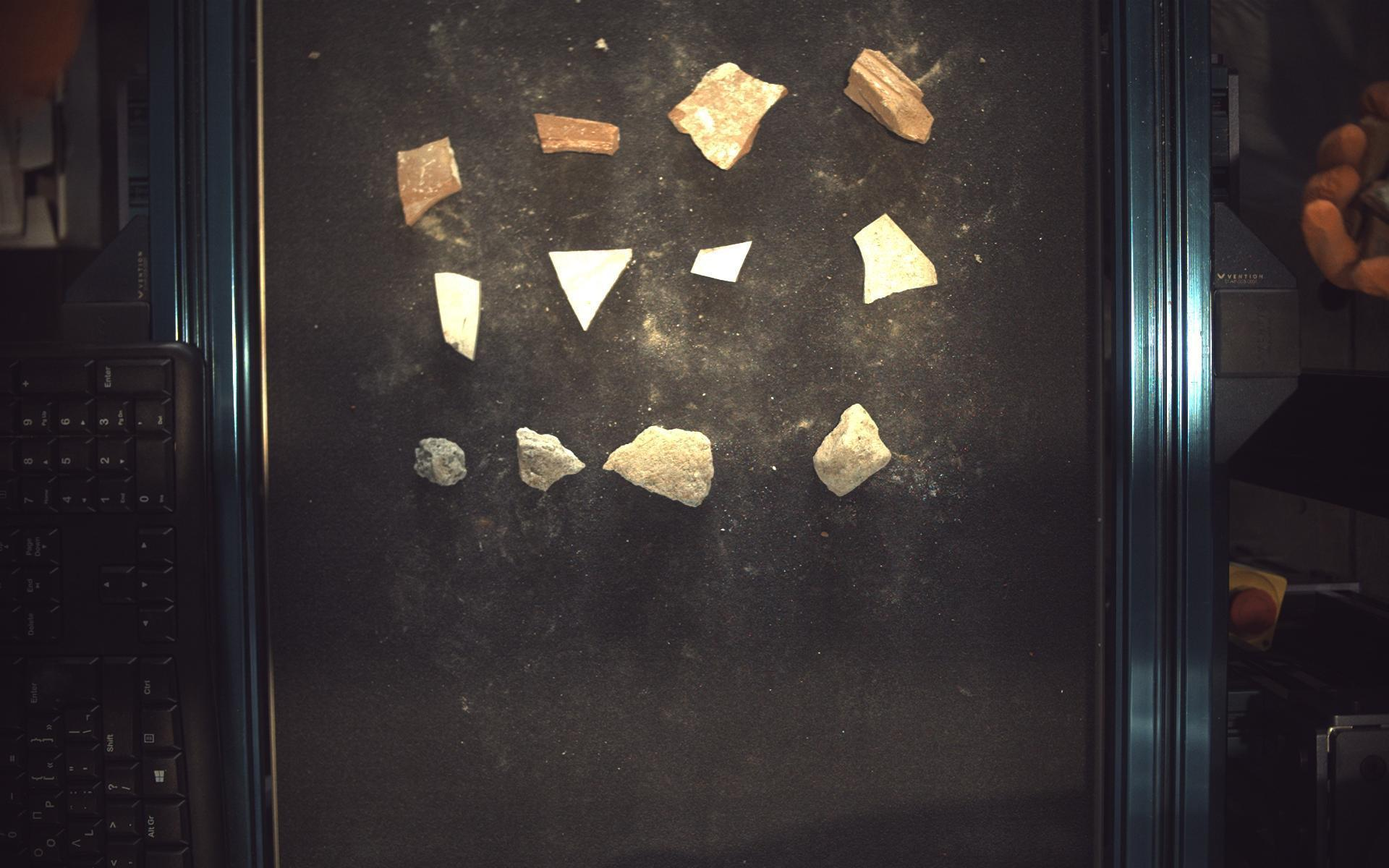brick: (669, 61, 789, 169), (846, 48, 935, 142), (397, 136, 462, 225), (535, 112, 620, 154)
concrete: (605, 426, 715, 507), (815, 404, 893, 497), (517, 427, 585, 491), (415, 438, 467, 486)
tile: (856, 213, 940, 302), (550, 248, 633, 330), (435, 273, 480, 359), (692, 240, 753, 281)
